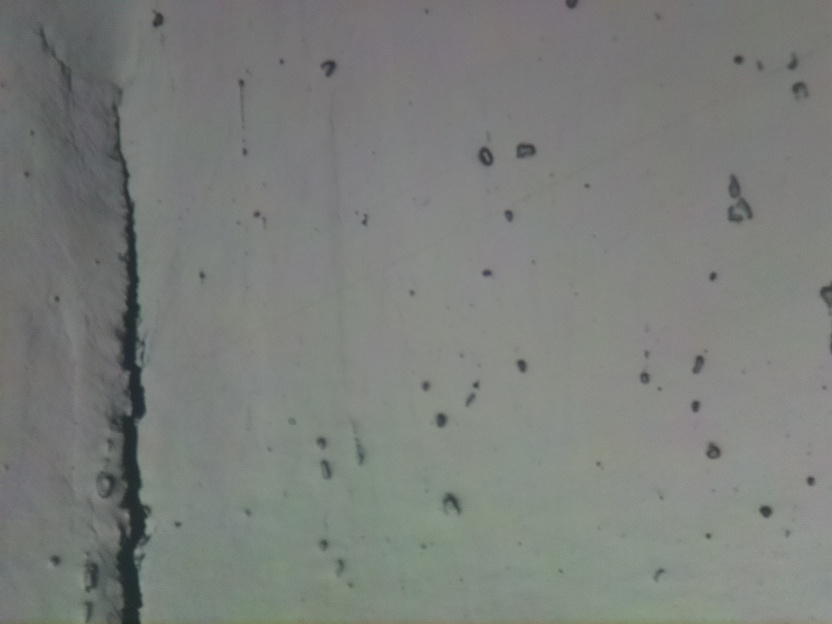crack: (111, 98, 147, 624), (32, 19, 79, 101)
